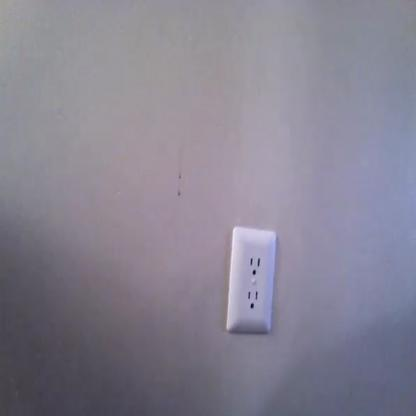OUTLET: (228, 228, 273, 330)
